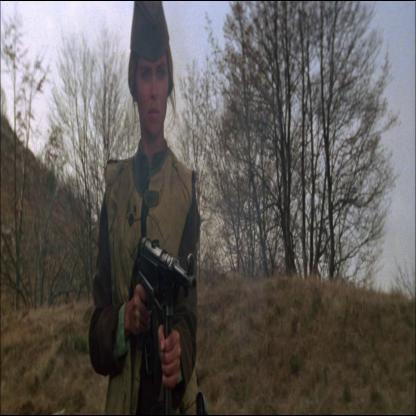gun: (131, 216, 201, 329)
